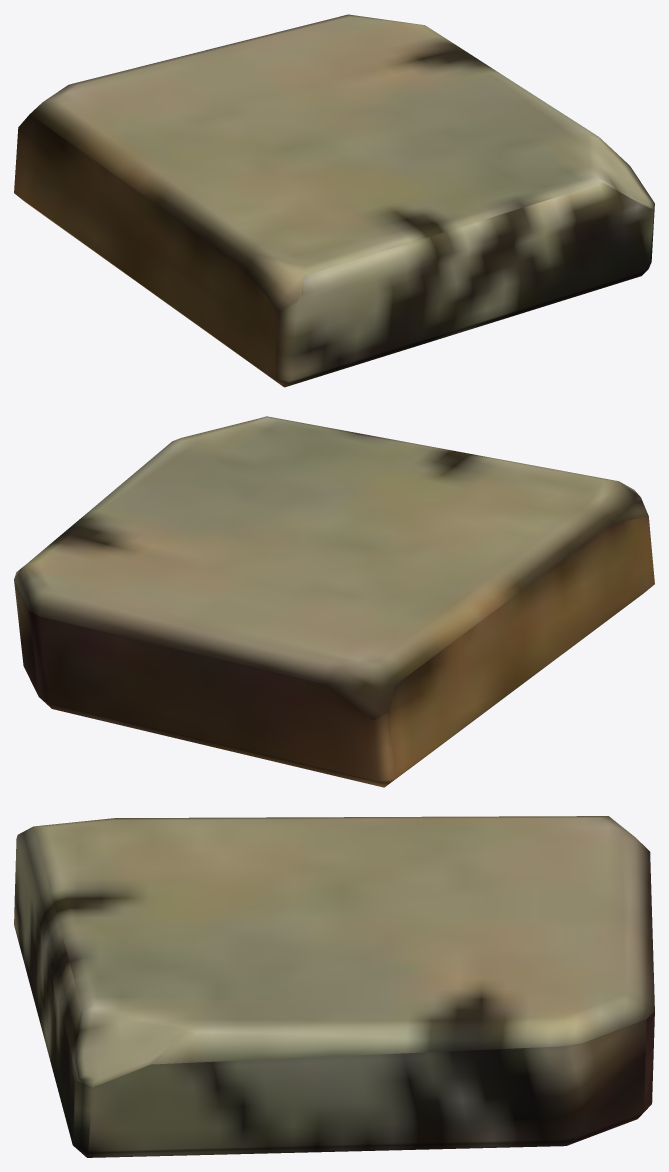
The model's file is RockPack004.fbx.
3 renders of one model, top to bottom at view 1: azimuth 30°, elevation 25°; view 2: azimuth 150°, elevation 25°; view 3: azimuth 270°, elevation 25°, orthographic. The views are drawn at different scales.
Parts seen in each view (by area): view 1: RockPack004; view 2: RockPack004; view 3: RockPack004.
Part boxes in pixels (x1=…): RockPack004: x1=14, y1=14, x2=654, y2=387; RockPack004: x1=14, y1=416, x2=654, y2=787; RockPack004: x1=14, y1=816, x2=654, y2=1157.
Bounding box in the file's own units: 90.83 × 23.55 × 103.
1 material, 1 textured.
